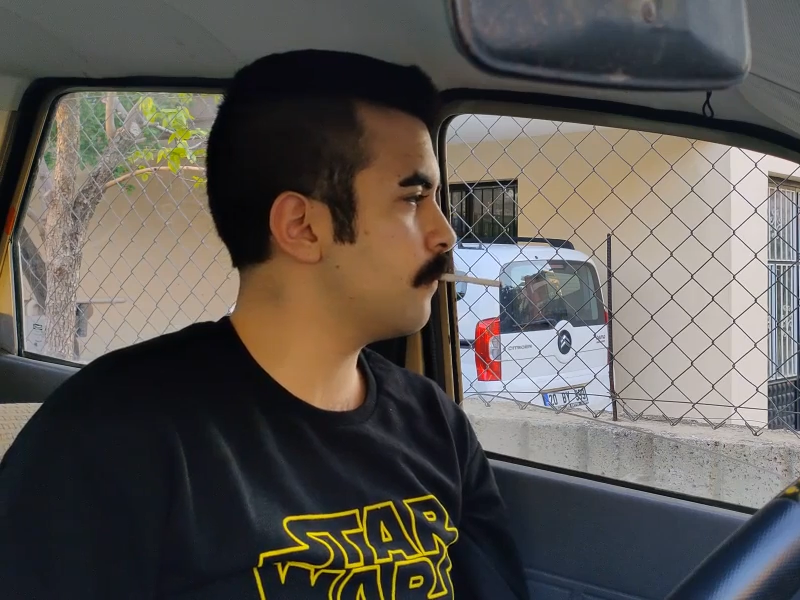sigara: (438, 273, 503, 288)
